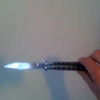knife: (4, 61, 87, 71)
